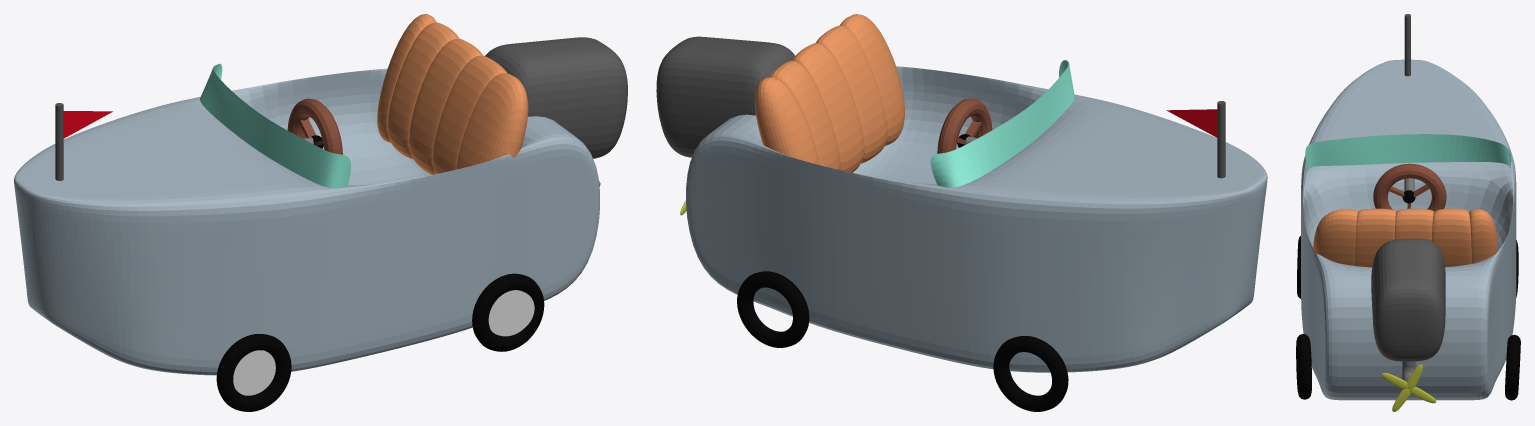
Rendered from barcoche.glb.
The picture shows the model from 3 angles, left to right: view 1: azimuth 30°, elevation 25°; view 2: azimuth 150°, elevation 25°; view 3: azimuth 270°, elevation 25°; orthographic projection. The views are drawn at different scales.
Visible parts, largest first — view 1: Plano, Plano.006, Plano.001, Plano.007, Toroide.001, Toroide.002, Toroide, Plano.010, Plano.008, Plano.012, Cilindro.002; view 2: Plano, Plano.006, Plano.001, Plano.007, Toroide.003, Toroide.004, Toroide, Plano.012, Cilindro.002; view 3: Plano, Plano.001, Plano.006, Plano.007, Toroide, Toroide.002, Toroide.004, Cilindro.002, Cilindro, Plano.003, Toroide.001, Plano.002 (+2 smaller).
Boxes of the visible parts, box(x1,y1,x2,y2) form: Plano: box(14, 68, 599, 375); Plano.006: box(377, 14, 528, 174); Plano.001: box(485, 37, 627, 158); Plano.007: box(200, 63, 350, 188); Toroide.001: box(216, 334, 291, 411); Toroide.002: box(472, 273, 544, 351); Toroide: box(287, 98, 342, 154); Plano.010: box(488, 290, 534, 336); Plano.008: box(233, 350, 275, 395); Plano.012: box(63, 111, 112, 138); Cilindro.002: box(55, 103, 63, 180); Plano: box(686, 66, 1267, 372); Plano.006: box(755, 14, 904, 172); Plano.001: box(656, 36, 794, 157); Plano.007: box(930, 60, 1074, 187); Toroide.003: box(993, 336, 1068, 411); Toroide.004: box(737, 271, 809, 347); Toroide: box(937, 98, 992, 153); Plano.012: box(1166, 109, 1217, 137); Cilindro.002: box(1217, 101, 1225, 178); Plano: box(1301, 59, 1516, 400); Plano.001: box(1371, 238, 1445, 361); Plano.006: box(1313, 208, 1497, 267); Plano.007: box(1305, 134, 1511, 172); Toroide: box(1373, 163, 1446, 211); Toroide.002: box(1296, 334, 1311, 399); Toroide.004: box(1505, 334, 1520, 400); Cilindro.002: box(1404, 14, 1410, 76); Cilindro: box(1402, 361, 1415, 382); Plano.003: box(1381, 373, 1407, 389); Toroide.001: box(1297, 236, 1300, 298); Plano.002: box(1410, 386, 1436, 403).
Size of the model in its own units: 13.02 by 6.18 by 5.36.
